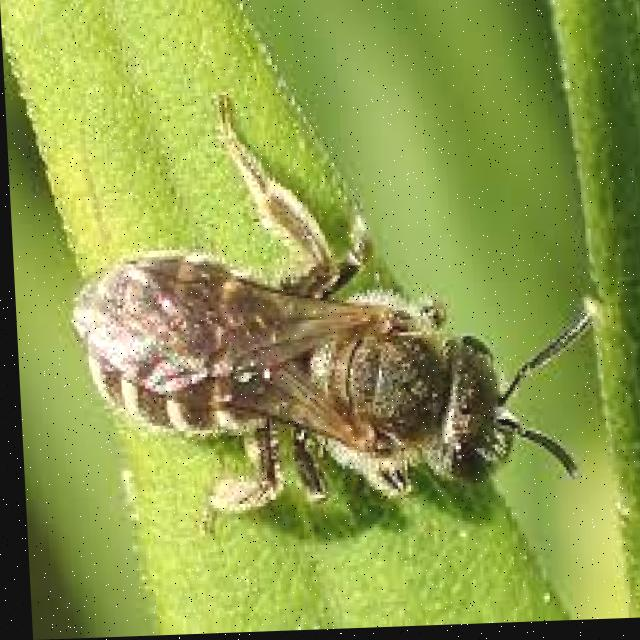Seladonia: (69, 187, 578, 532)
